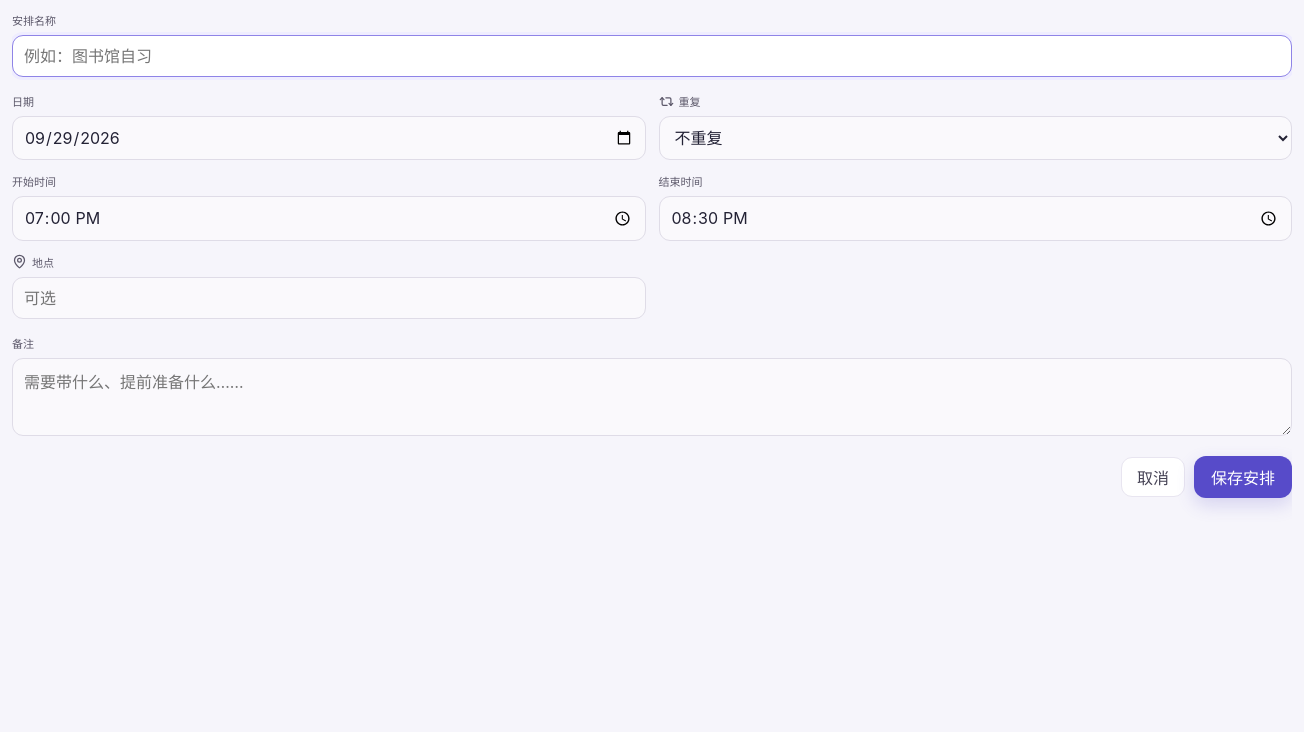
Test: 安排冲突提示 › 每周重复会检查后续日期的冲突
Type "每周自习" into the field labelled "安排名称". click: (652, 56)
box: [12,35,1292,77]
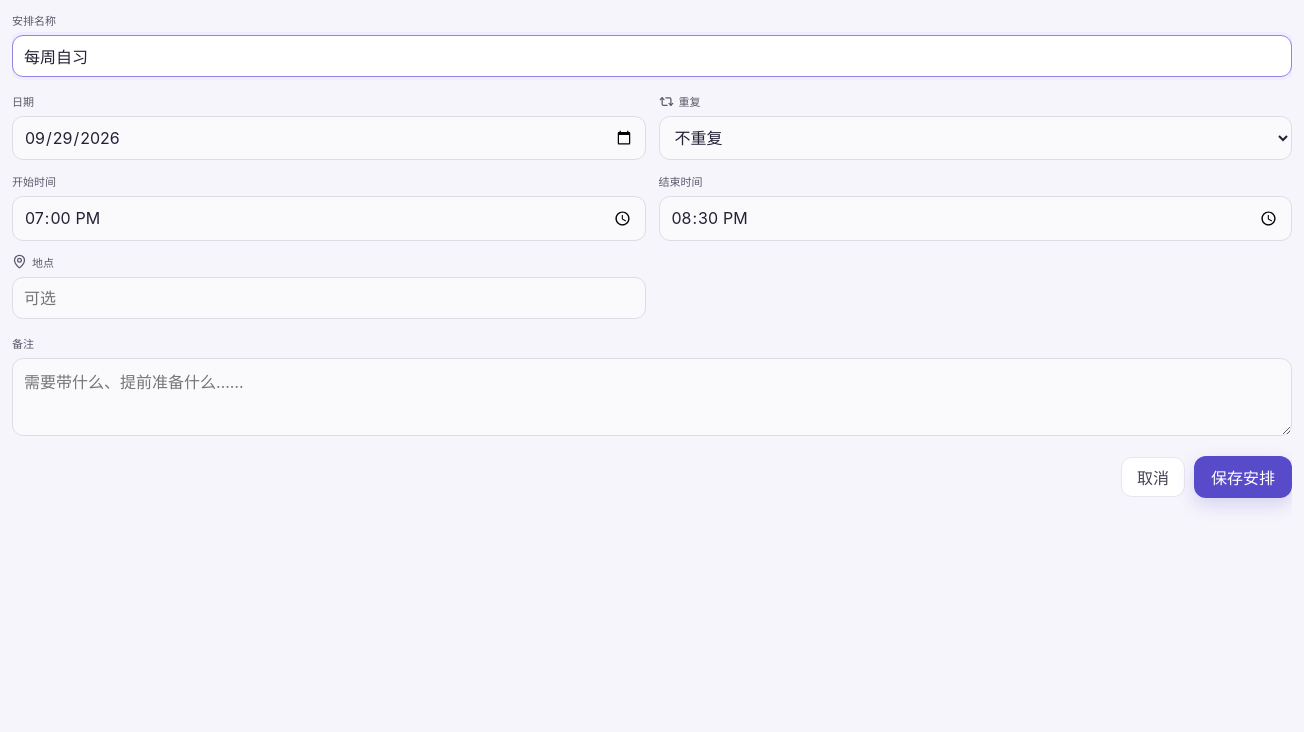
Select "每周" in the dropdown labelled "重复". click: (975, 138)
box: [658,116,1292,160]
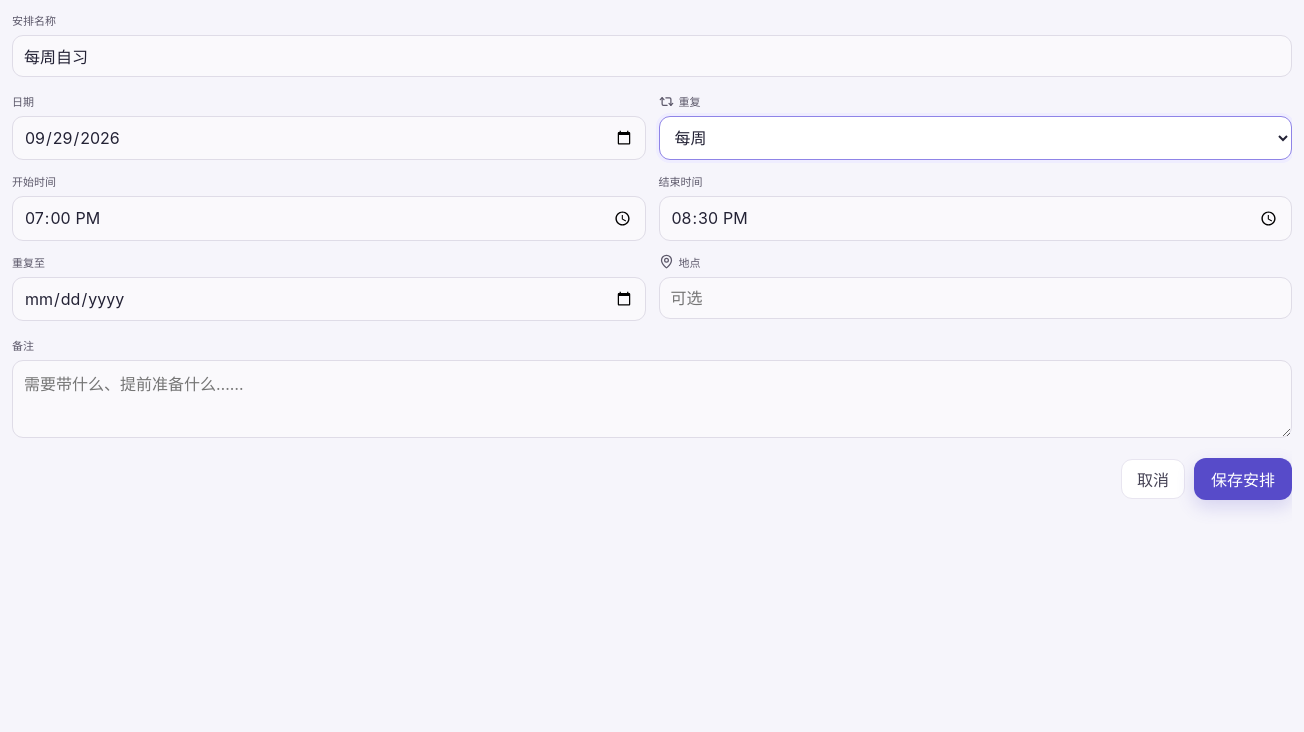
Type "2026-10-20" into the date field labelled "重复至". click: (329, 299)
box: [12,277,646,321]
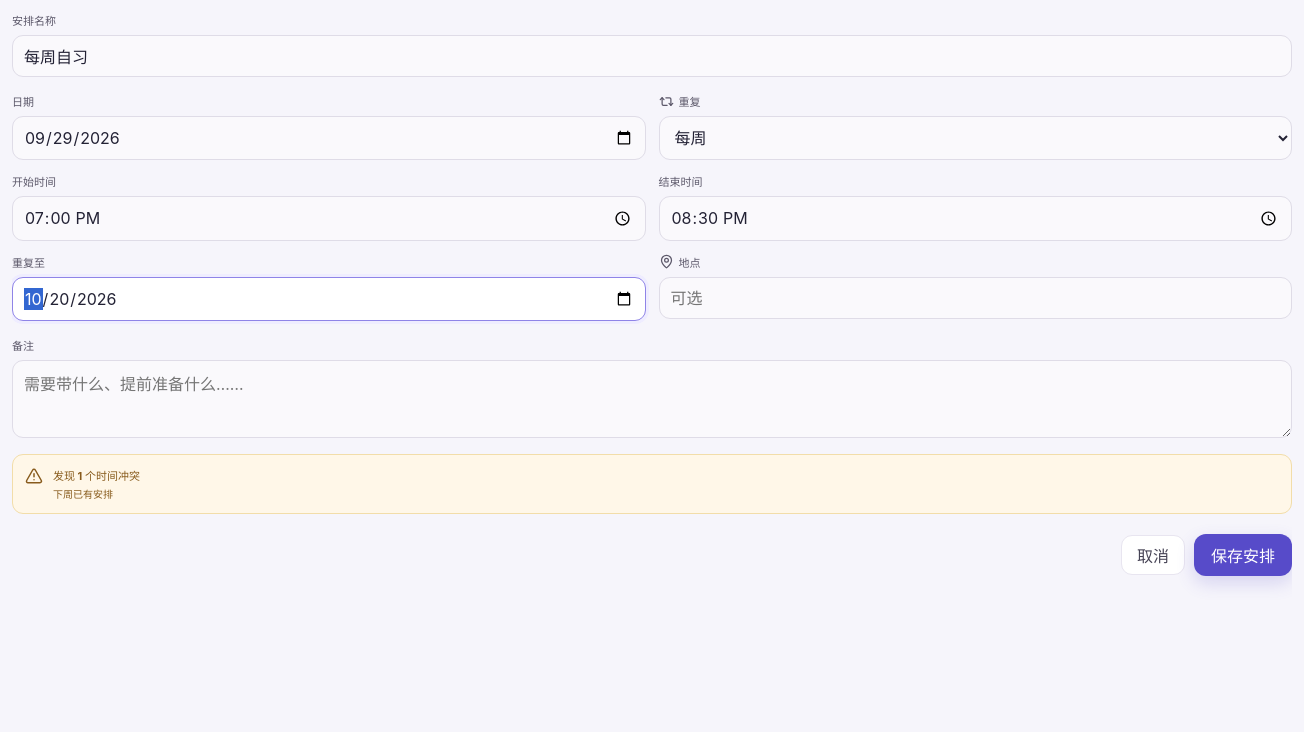
Result: the text "发现 1 个时间冲突" is shown at [53,467,140,483]
